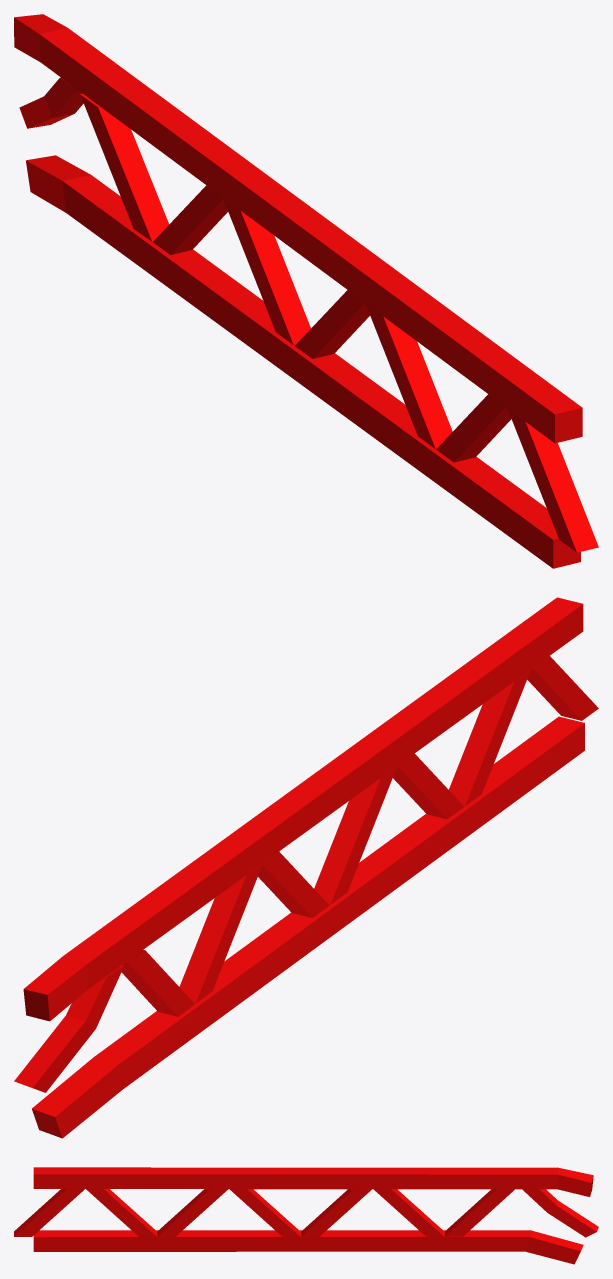
File: RedMetalFloorMediumGirder1.fbx
3 views of the same model, one above another, from view 1: azimuth 30°, elevation 25°; view 2: azimuth 150°, elevation 25°; view 3: azimuth 270°, elevation 25° (orthographic). The views are drawn at different scales.
Visible parts, largest first — view 1: RedMetalFloorMediumGirder1; view 2: RedMetalFloorMediumGirder1; view 3: RedMetalFloorMediumGirder1.
Part boxes in pixels (x1=…): RedMetalFloorMediumGirder1: x1=14, y1=14, x2=598, y2=568; RedMetalFloorMediumGirder1: x1=14, y1=597, x2=598, y2=1138; RedMetalFloorMediumGirder1: x1=14, y1=1167, x2=598, y2=1264.
Size of the model in its own units: 66.67 by 242 by 1455.
